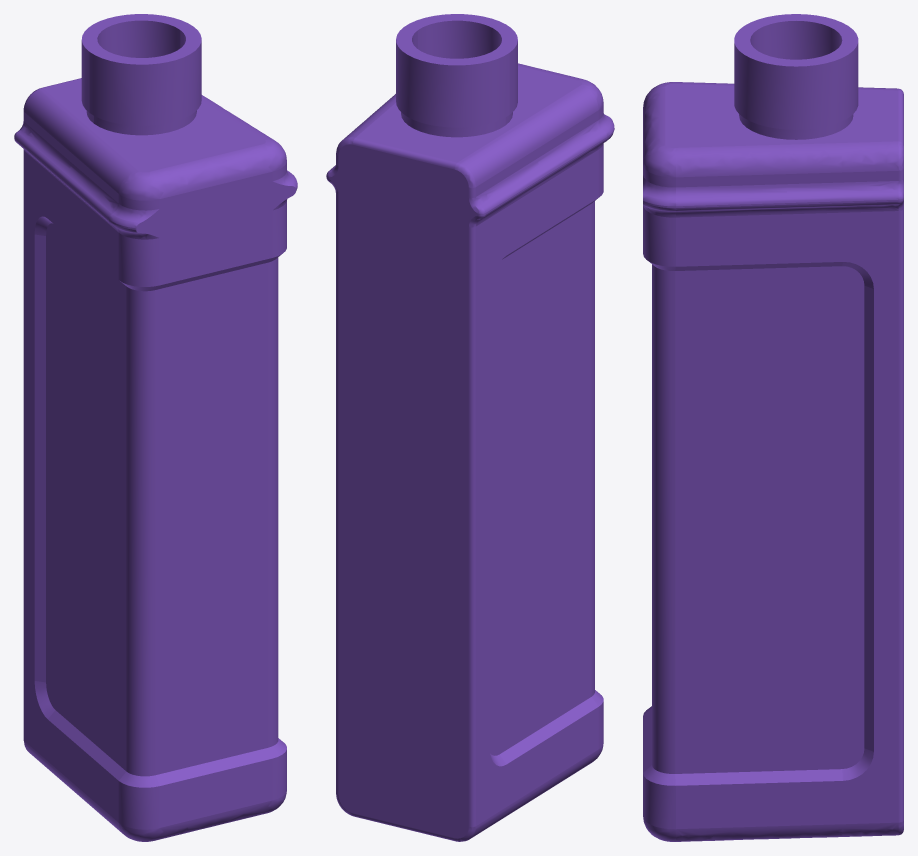
3 renders of one model, left to right at view 1: azimuth 30°, elevation 25°; view 2: azimuth 150°, elevation 25°; view 3: azimuth 270°, elevation 25°, orthographic. The views are drawn at different scales.
Visible parts, largest first — view 1: Bottiglia_Reagenti_15ml; view 2: Bottiglia_Reagenti_15ml; view 3: Bottiglia_Reagenti_15ml.
Boxes of the visible parts, left/top/right/bottom form: Bottiglia_Reagenti_15ml: left=14, top=14, right=297, bottom=841; Bottiglia_Reagenti_15ml: left=326, top=14, right=614, bottom=841; Bottiglia_Reagenti_15ml: left=643, top=14, right=903, bottom=841.
Size of the model in its own units: 19.61 by 76.3 by 23.5.
